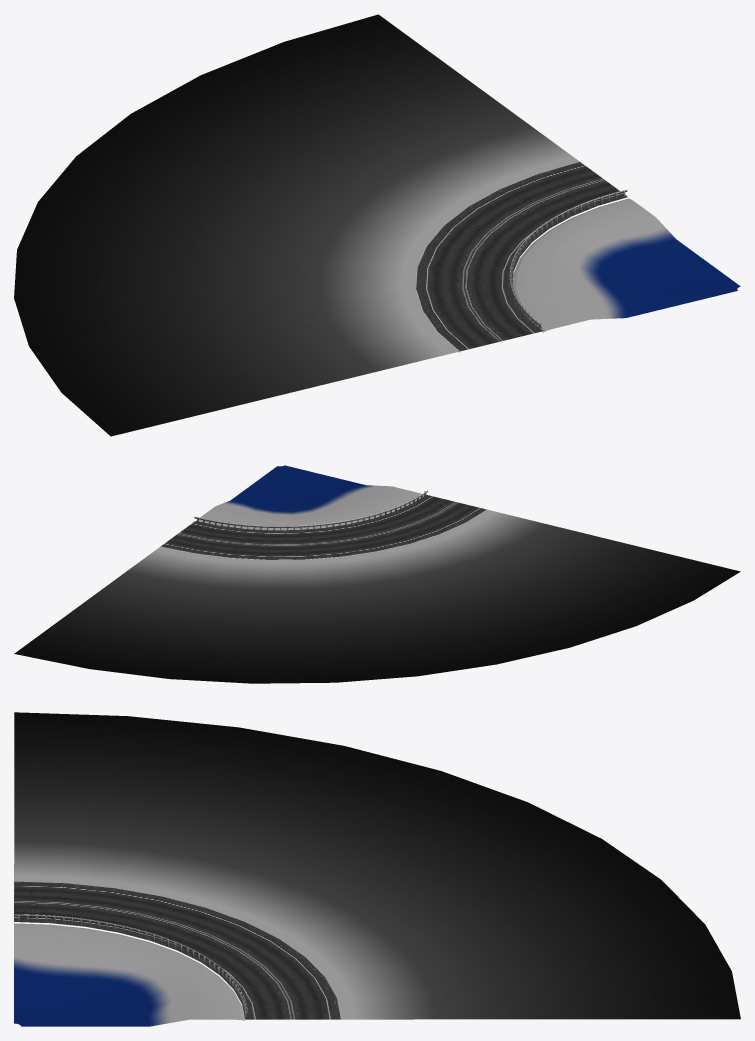
The model's file is miami_road_002.FBX.
The picture shows the model from 3 angles, top to bottom: view 1: azimuth 30°, elevation 25°; view 2: azimuth 150°, elevation 25°; view 3: azimuth 270°, elevation 25°; orthographic projection. The views are drawn at different scales.
Parts seen in each view (by area): view 1: Plane041; view 2: Plane041; view 3: Plane041.
Boxes of the visible parts, x1,y1,x2,y2 form: Plane041: (14, 14, 740, 436); Plane041: (14, 465, 740, 683); Plane041: (14, 712, 740, 1026).
Bounding box in the file's own units: 2658 × 55.6 × 2658.
